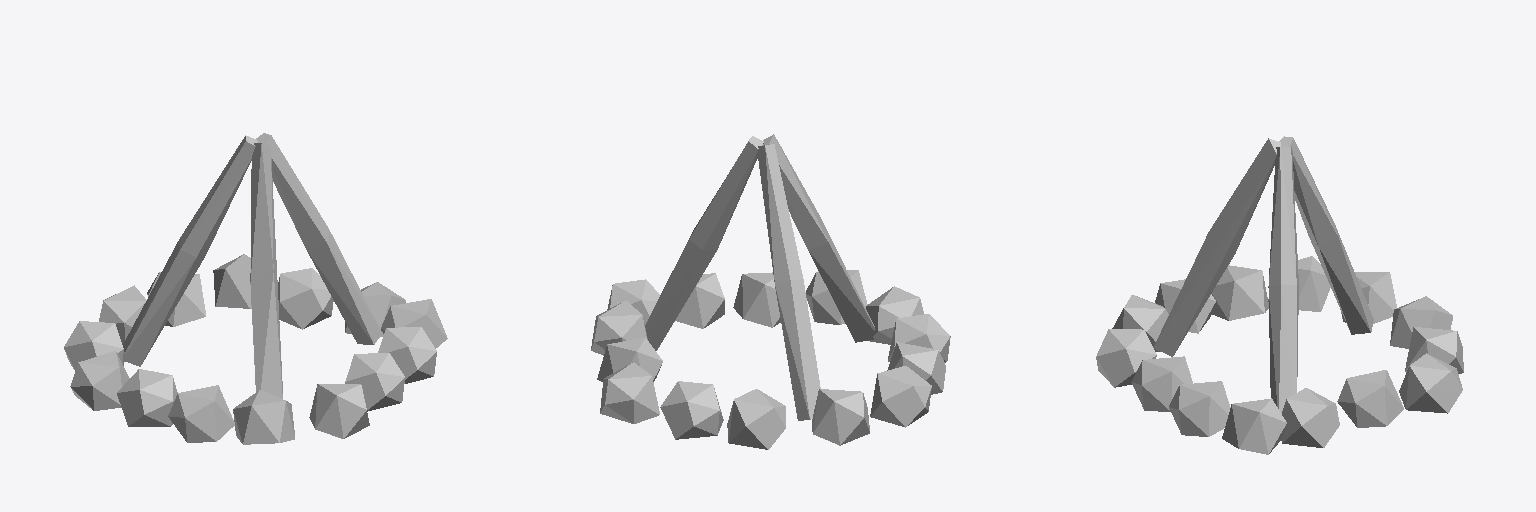
Rendered from Campfire.obj.
3 renders of one model, left to right at view 1: azimuth 30°, elevation 25°; view 2: azimuth 150°, elevation 25°; view 3: azimuth 270°, elevation 25°, orthographic.
Visible parts, largest first — view 1: Cylinder.001_Cylinder.005, Cylinder.002_Cylinder.006, Cylinder_Cylinder.004, Icosphere.006_Icosphere.007, Icosphere.005_Icosphere.006, Icosphere.007_Icosphere.008, Icosphere.013_Icosphere.014, Icosphere.008_Icosphere.009, Icosphere.009_Icosphere.010, Icosphere.004_Icosphere.005, Icosphere.010_Icosphere.011, Icosphere.003_Icosphere.004 (+5 smaller); view 2: Cylinder.001_Cylinder.005, Cylinder_Cylinder.004, Cylinder.002_Cylinder.006, Icosphere.001_Icosphere.002, Icosphere.004_Icosphere.005, Icosphere.002_Icosphere.003, Icosphere_Icosphere.001, Icosphere.003_Icosphere.004, Icosphere.009_Icosphere.010, Icosphere.012_Icosphere.013, Icosphere.007_Icosphere.008, Icosphere.010_Icosphere.011 (+5 smaller); view 3: Cylinder_Cylinder.004, Cylinder.002_Cylinder.006, Cylinder.001_Cylinder.005, Icosphere_Icosphere.001, Icosphere.013_Icosphere.014, Icosphere.010_Icosphere.011, Icosphere.011_Icosphere.012, Icosphere.012_Icosphere.013, Icosphere.005_Icosphere.006, Icosphere.008_Icosphere.009, Icosphere.009_Icosphere.010, Icosphere.002_Icosphere.003 (+5 smaller).
Boxes of the visible parts, box(x1,y1,x2,y2) form: Cylinder.001_Cylinder.005: box(123, 135, 257, 366); Cylinder.002_Cylinder.006: box(250, 143, 282, 398); Cylinder_Cylinder.004: box(256, 133, 381, 344); Icosphere.006_Icosphere.007: box(168, 385, 234, 442); Icosphere.005_Icosphere.006: box(117, 369, 177, 426); Icosphere.007_Icosphere.008: box(233, 390, 294, 444); Icosphere.013_Icosphere.014: box(278, 268, 333, 329); Icosphere.008_Icosphere.009: box(309, 384, 369, 438); Icosphere.009_Icosphere.010: box(345, 353, 404, 411); Icosphere.004_Icosphere.005: box(70, 351, 129, 410); Icosphere.010_Icosphere.011: box(378, 327, 436, 383); Icosphere.003_Icosphere.004: box(64, 321, 124, 370); Cylinder.001_Cylinder.005: box(757, 144, 820, 420); Cylinder_Cylinder.004: box(645, 136, 763, 350); Cylinder.002_Cylinder.006: box(762, 134, 875, 342); Icosphere.001_Icosphere.002: box(660, 381, 723, 439); Icosphere.004_Icosphere.005: box(870, 366, 931, 427); Icosphere.002_Icosphere.003: box(727, 389, 785, 449); Icosphere_Icosphere.001: box(600, 362, 659, 423); Icosphere.003_Icosphere.004: box(812, 389, 869, 445); Icosphere.009_Icosphere.010: box(733, 272, 780, 327); Icosphere.012_Icosphere.013: box(591, 300, 647, 355); Icosphere.007_Icosphere.008: box(866, 286, 923, 344); Icosphere.010_Icosphere.011: box(675, 273, 724, 328); Cylinder_Cylinder.004: box(1268, 147, 1298, 413); Cylinder.002_Cylinder.006: box(1153, 138, 1280, 356); Cylinder.001_Cylinder.005: box(1279, 136, 1373, 334); Icosphere_Icosphere.001: box(1399, 353, 1462, 413); Icosphere.013_Icosphere.014: box(1337, 370, 1403, 427); Icosphere.010_Icosphere.011: box(1169, 381, 1230, 436); Icosphere.011_Icosphere.012: box(1222, 398, 1286, 454); Icosphere.012_Icosphere.013: box(1281, 388, 1339, 447); Icosphere.005_Icosphere.006: box(1211, 265, 1268, 320); Icosphere.008_Icosphere.009: box(1096, 329, 1156, 387); Icosphere.009_Icosphere.010: box(1131, 356, 1192, 411); Icosphere.002_Icosphere.003: box(1390, 296, 1452, 348).
Size of the model in its own units: 1.22 by 0.7993 by 1.13.